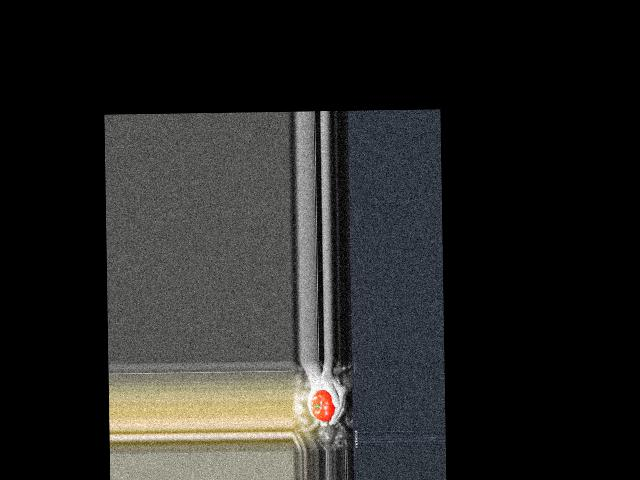tomato: (310, 389, 335, 421)
